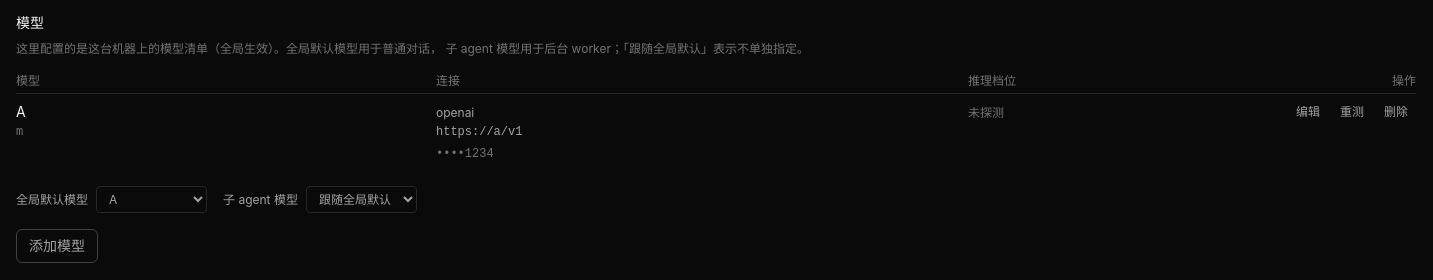
Test: SettingsModelsTab effort capabilities › starts a probe and clears the busy state when the broadcast arrives
expect the text "未探测" is shown: met, box x1=968 y1=105 x2=1004 y2=120
What coordinates should you click on to do the following:
click the button with aria-label "重新探测 A"
I would click on:
 (1352, 112)
Its box is x1=1332 y1=102 x2=1372 y2=122.
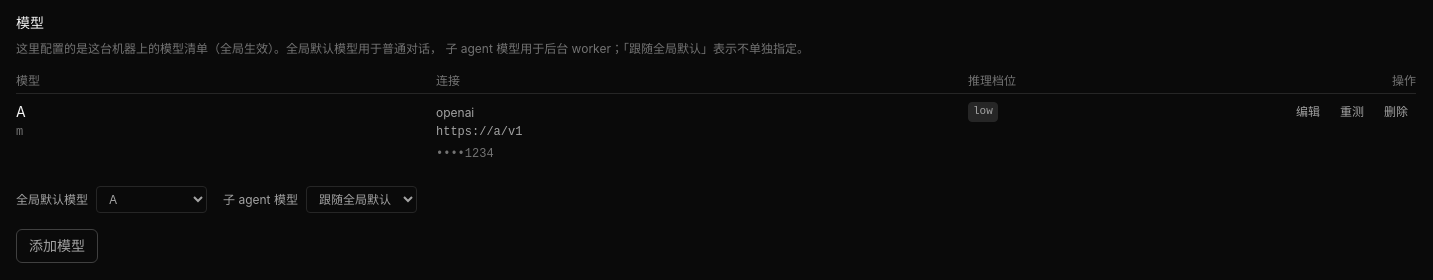
expect the text "low" is shown: met, box x1=968 y1=102 x2=998 y2=122
